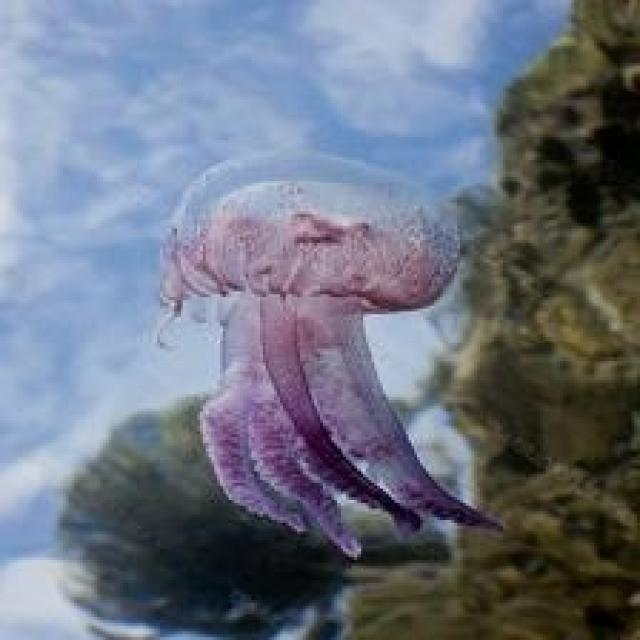Moon-jellyfish: (151, 143, 506, 560)
